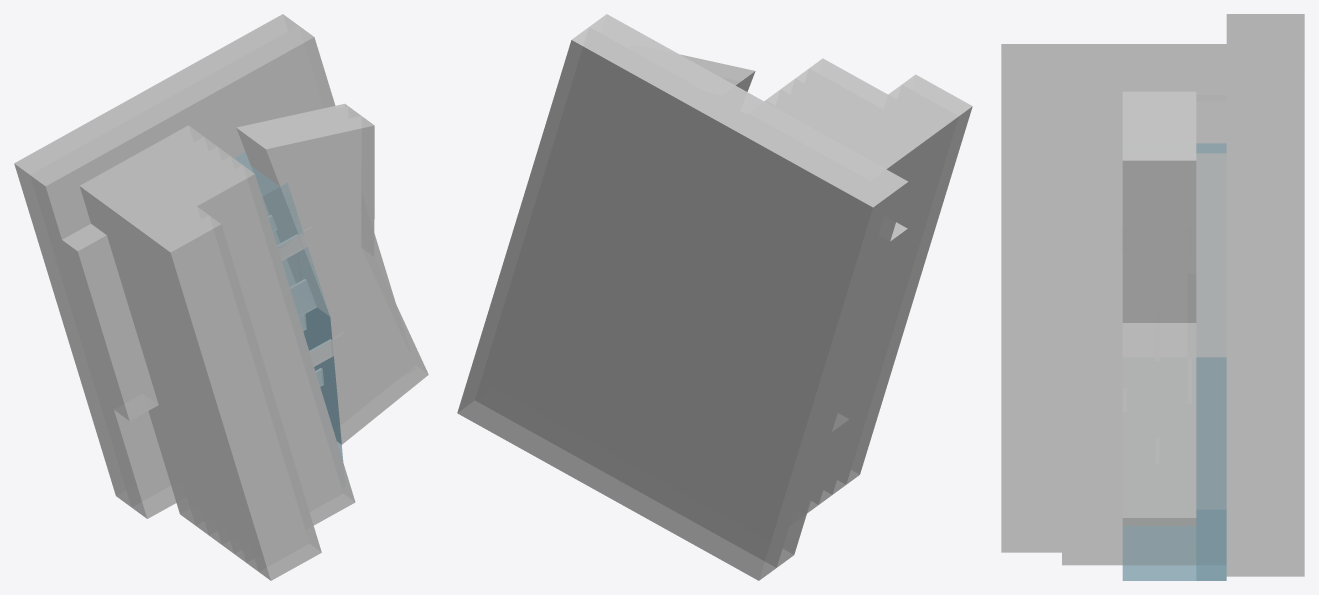
File: opt2-2.obj
3 views of the same model, side by side, from view 1: azimuth 30°, elevation 25°; view 2: azimuth 150°, elevation 25°; view 3: azimuth 270°, elevation 25° (orthographic). The views are drawn at different scales.
Bounding box in the file's own units: 244 × 280 × 140.
